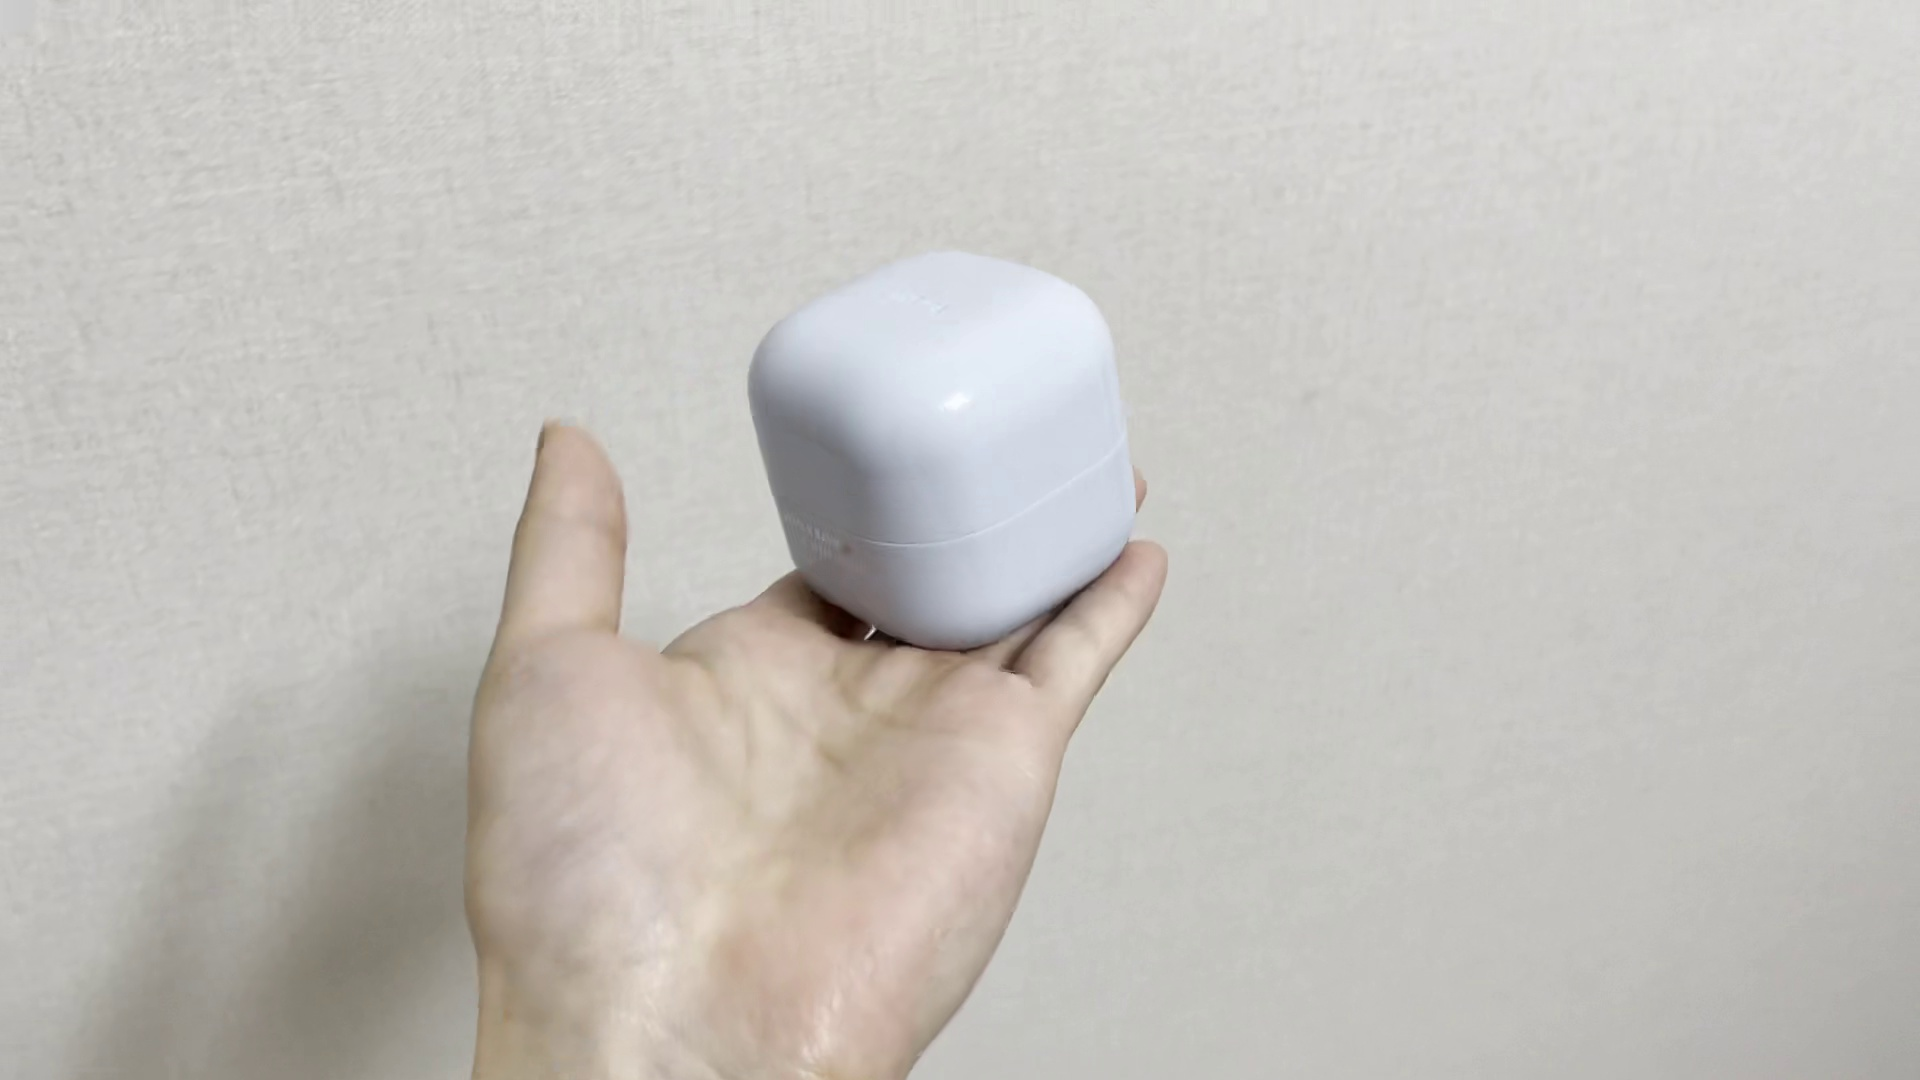cream: (754, 255, 1134, 650)
